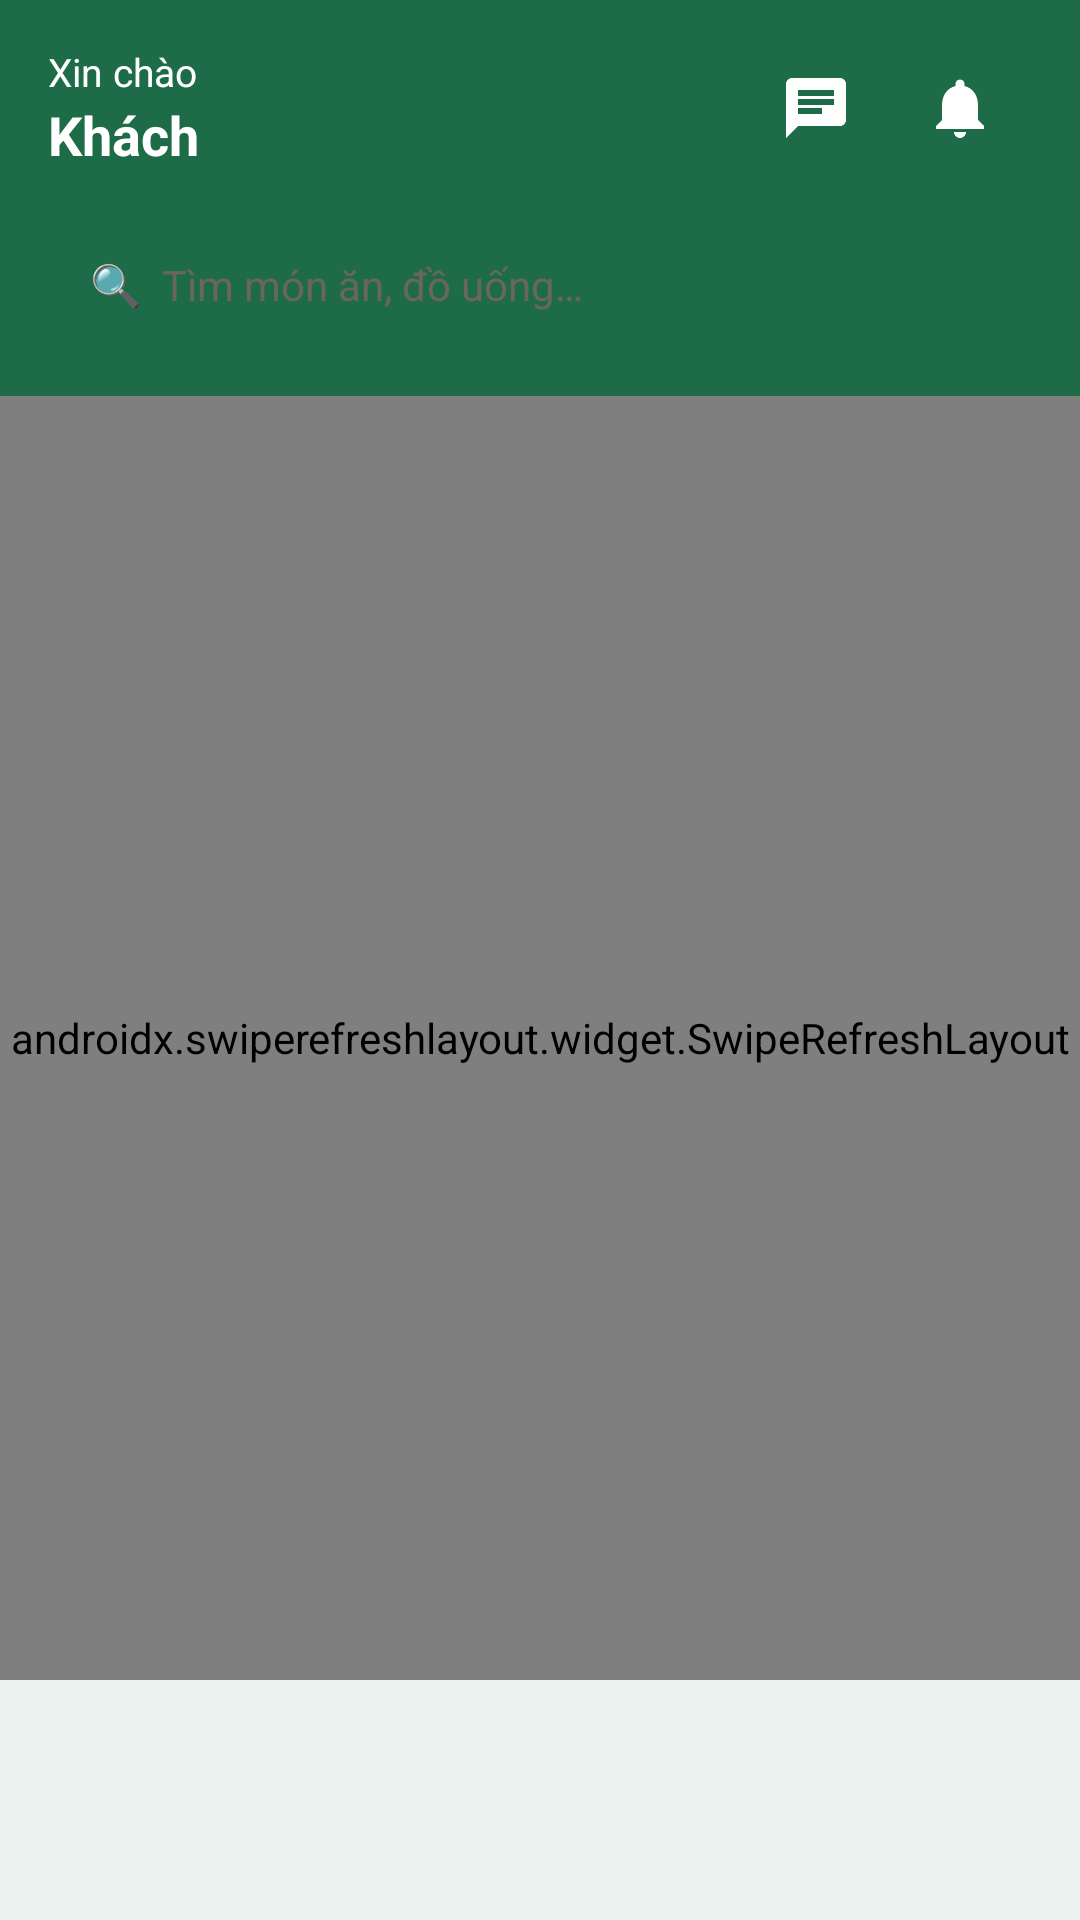

Screen size 1080px x 1920px. Icon name, then its center in pixels as (x=x, y=y):
Chat với cửa hàng: (x=816, y=108)
Thông báo: (x=960, y=108)
